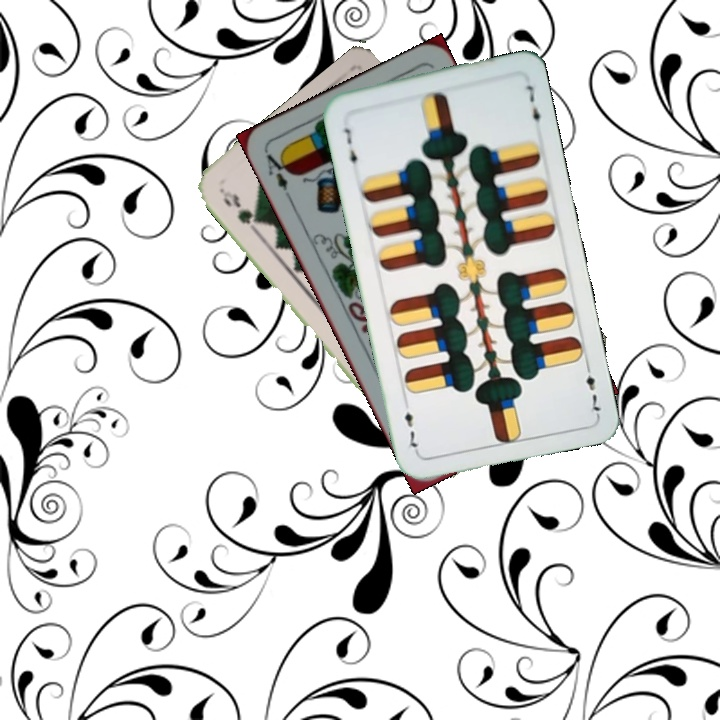E7: (582, 359, 603, 416), (339, 122, 360, 172)
EA: (261, 147, 294, 203)
G9: (216, 185, 264, 235)
